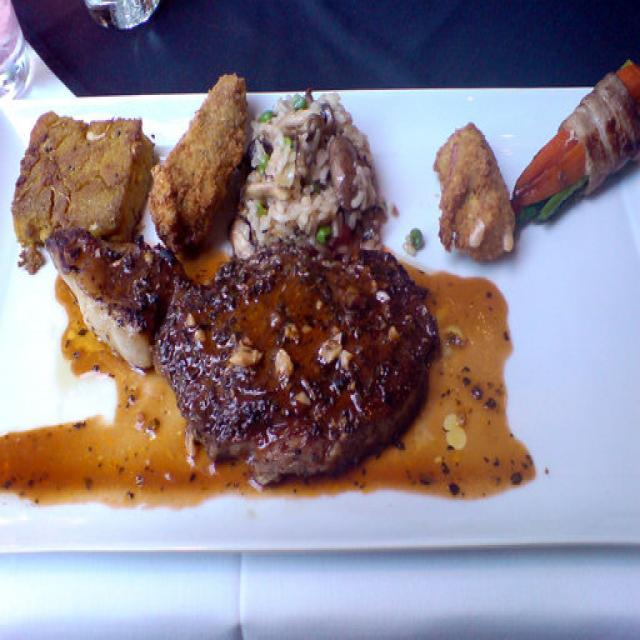Steak: (31, 184, 485, 504)
